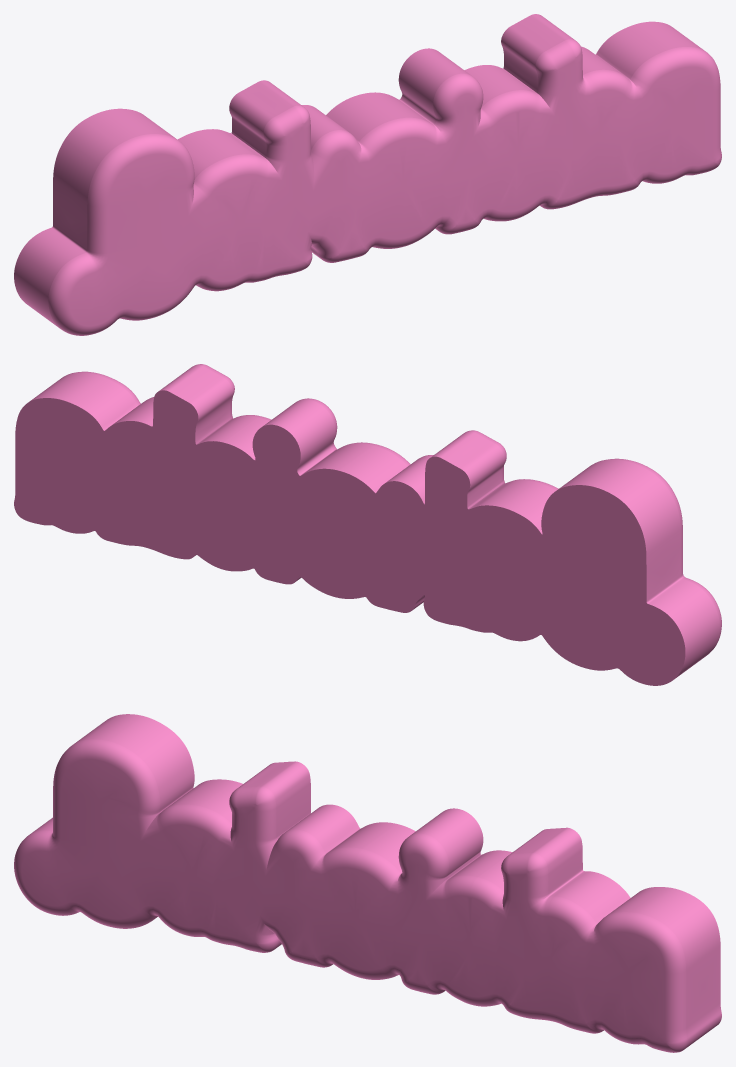
The model's file is Asset-2.gltf.
3 renders of one model, top to bottom at view 1: azimuth 30°, elevation 25°; view 2: azimuth 150°, elevation 25°; view 3: azimuth 330°, elevation 25°, orthographic.
Bounding box in the file's own units: 0.302 × 0.0796 × 0.0329.
